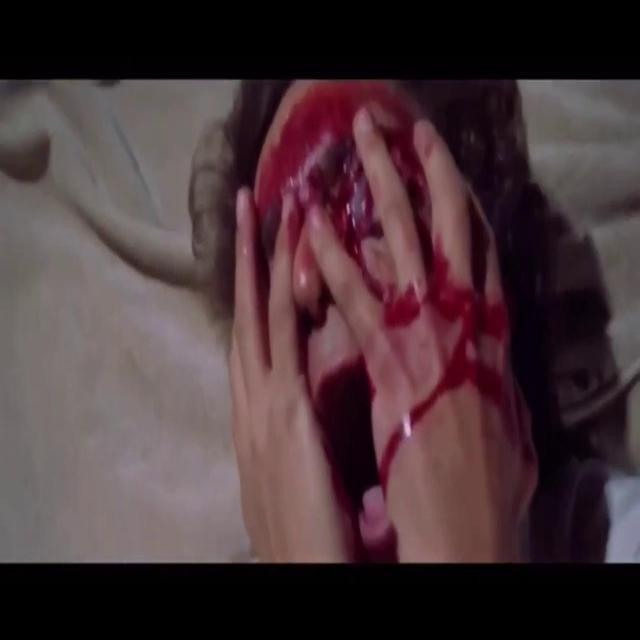flood: (252, 85, 540, 468)
